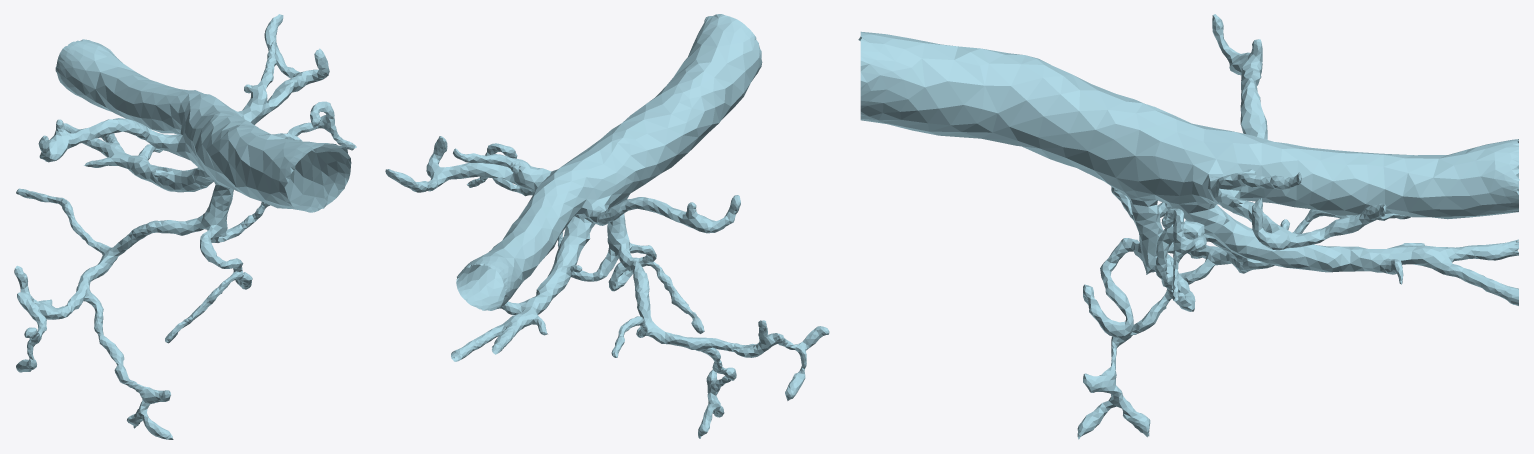
The model's file is artery.obj.
3 views of the same model, side by side, from view 1: azimuth 30°, elevation 25°; view 2: azimuth 150°, elevation 25°; view 3: azimuth 270°, elevation 25° (orthographic). The views are drawn at different scales.
Visible parts, largest first — view 1: grp1; view 2: grp1; view 3: grp1.
Boxes of the visible parts, <box> form: grp1: <box>14,14,356,439</box>; grp1: <box>385,14,829,438</box>; grp1: <box>858,14,1519,439</box>.
Size of the model in its own units: 156 by 142 by 188.
